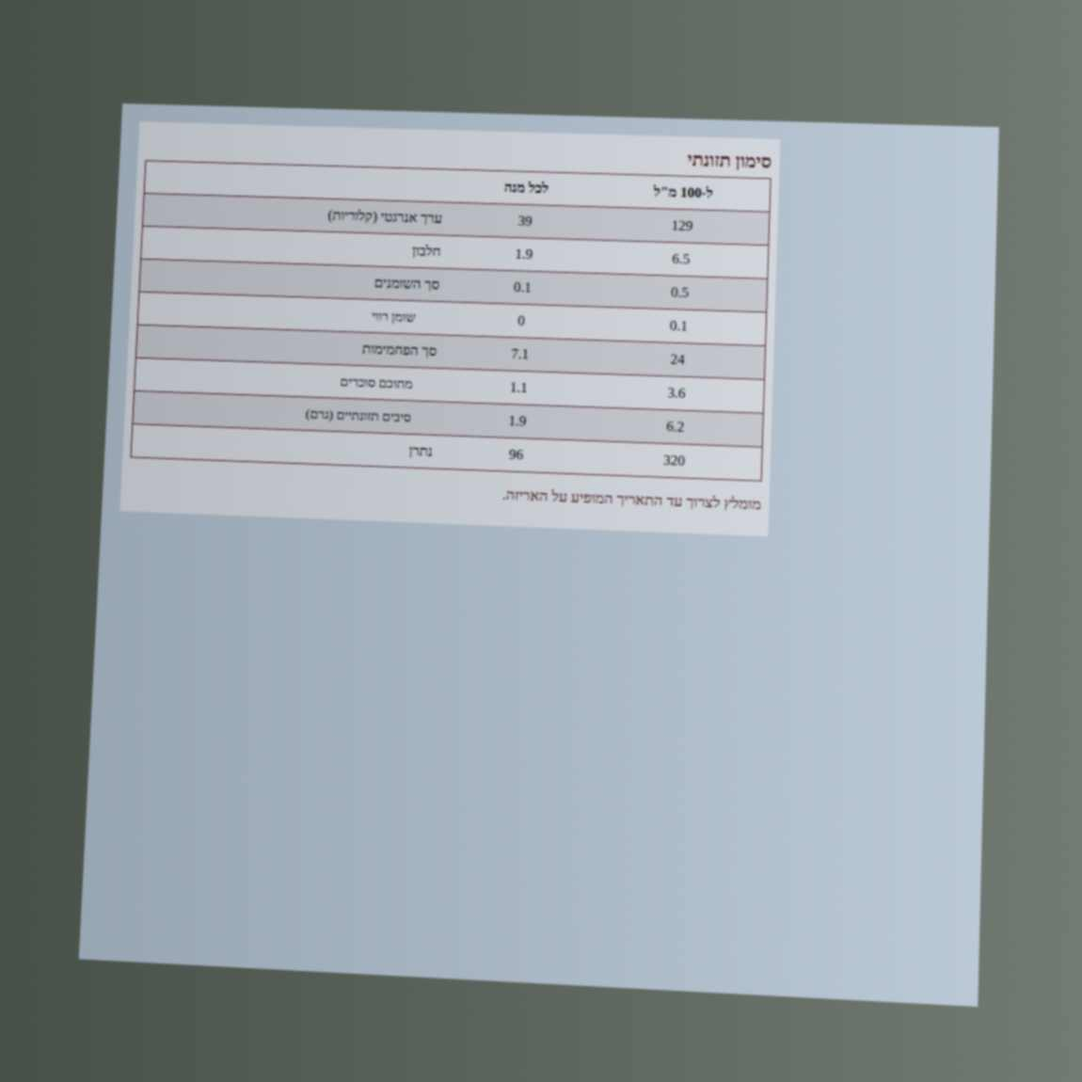carbs: (668, 350, 687, 369)
energy: (669, 216, 695, 235)
fat: (669, 283, 691, 302)
protein: (670, 250, 692, 268)
